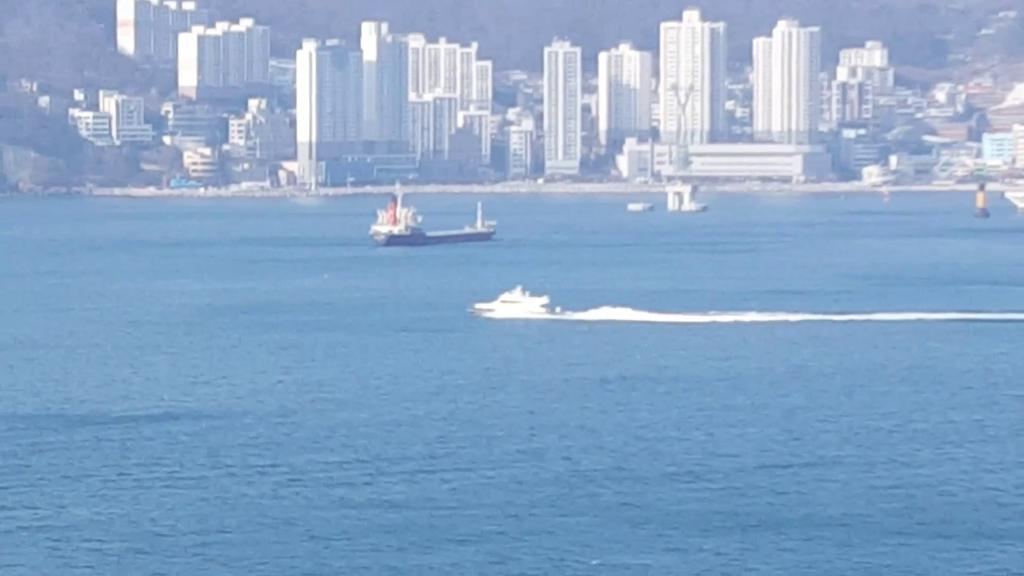PassengerShip: (468, 280, 572, 324)
